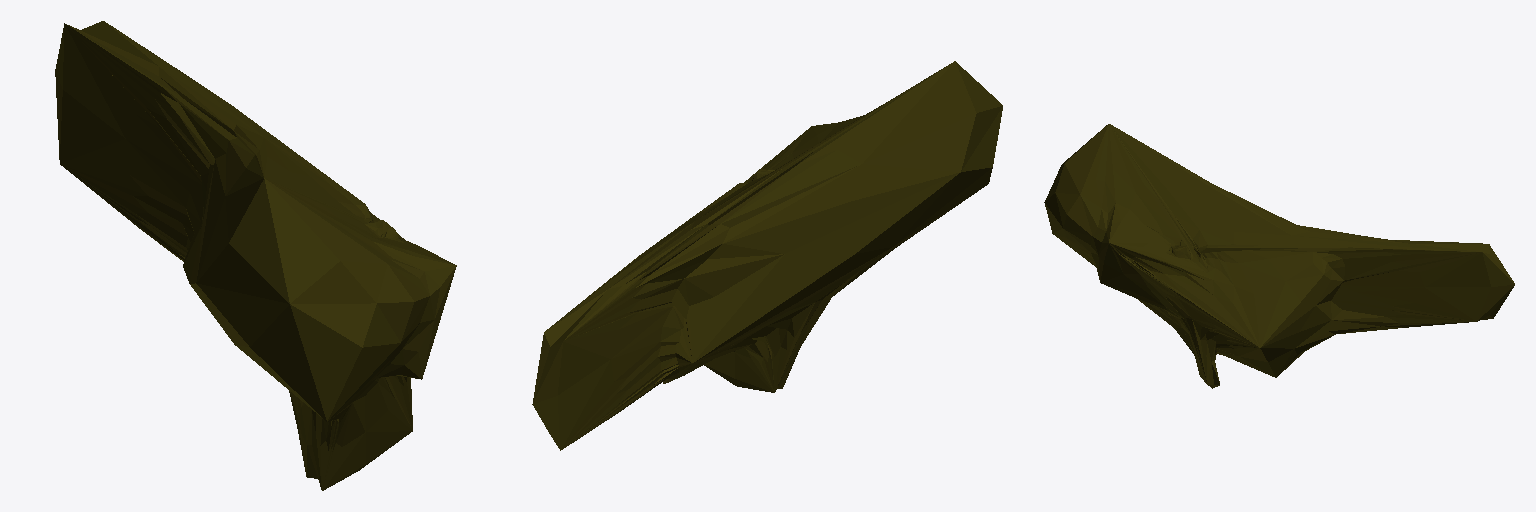
URDF robot description (blob627):

<robot name="blob627">
  <link name="random_obj_627">
    <contact>
      <lateral_friction value="1.0"/>
      <rolling_friction value="0.0"/>
      <inertia_scaling value="3.0"/>
      <contact_cfm value="0.0"/>
      <contact_erp value="1.0"/>
    </contact>
    <inertial>
      <origin rpy="0 0 0" xyz="0 0 0"/>
      <mass value="0.1199"/>
      <inertia ixx="1" ixy="0" ixz="0" iyy="1" iyz="0" izz="0"/>
    </inertial>
    <visual>
      <origin rpy="0 0 0" xyz="0 0 0"/>
      <geometry>
        <mesh filename="627.obj" scale="0.0077 0.0077 0.0077"/>
      </geometry>
      <material name="blockmat">
        <color rgba="0.25 0.23 0.07 1"/>
      </material>
    </visual>
    <collision>
      <origin rpy="0 0 0" xyz="0 0 0"/>
      <geometry>
        <mesh filename="627_coll.obj" scale="0.0077 0.0077 0.0077"/>
      </geometry>
    </collision>
  </link>
</robot>

--- What the picture shows (computed from the rendered views, not written in the file) ---
3 views of the same robot in one strip: view 1: azimuth 30°, elevation 25°; view 2: azimuth 150°, elevation 25°; view 3: azimuth 270°, elevation 25° (orthographic).
Model blob627 with 1 links and 0 joints (none), rooted at random_obj_627, posed every joint at zero.
Links seen in each view (by area): view 1: random_obj_627; view 2: random_obj_627; view 3: random_obj_627.
Link boxes in pixels (bbox=[...]): random_obj_627: bbox=[55, 21, 456, 490]; random_obj_627: bbox=[532, 61, 1002, 450]; random_obj_627: bbox=[1044, 124, 1514, 388].
Size in the robot's own frame: 0.0641 by 0.1396 by 0.0706 metres.
Meshes: 1 distinct files referenced, 1 mesh visuals loaded (1 OBJ).
